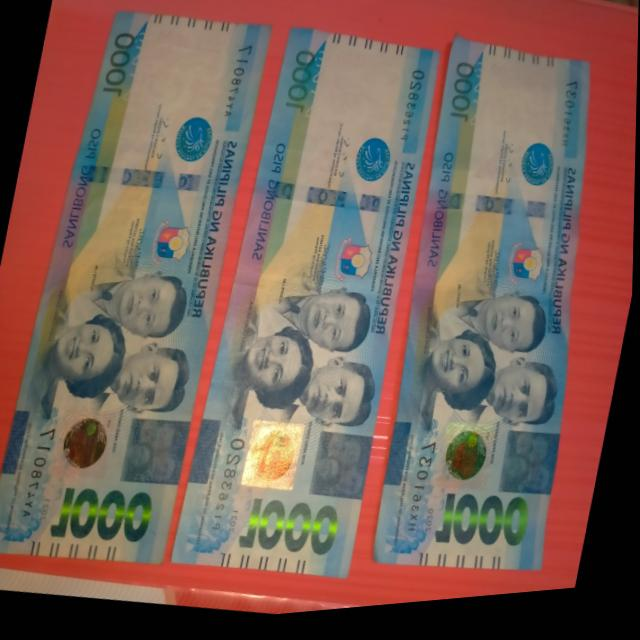concealed_value: (120, 408, 196, 495)
optically_variable_device: (47, 403, 120, 487), (239, 419, 307, 503), (436, 421, 501, 504)
see_through_mark: (300, 49, 335, 130)
